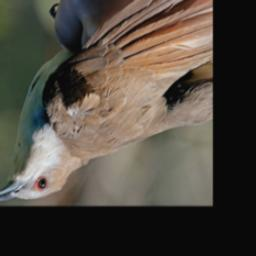Cuckoo: (0, 0, 213, 201)
